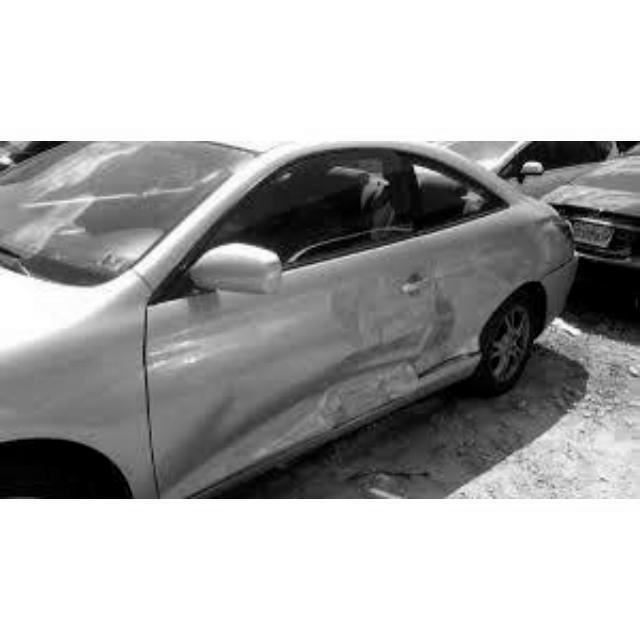Runningboard-Damage: (235, 355, 482, 433)
doorouter-dent: (272, 229, 427, 429), (423, 205, 508, 369)
